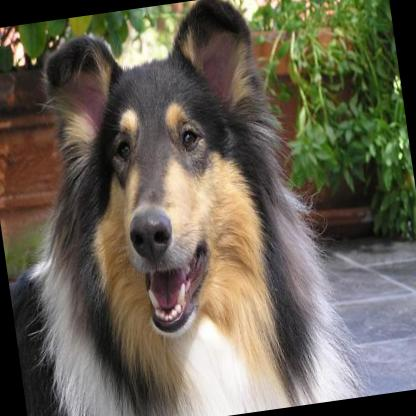collie: (0, 0, 378, 416)
